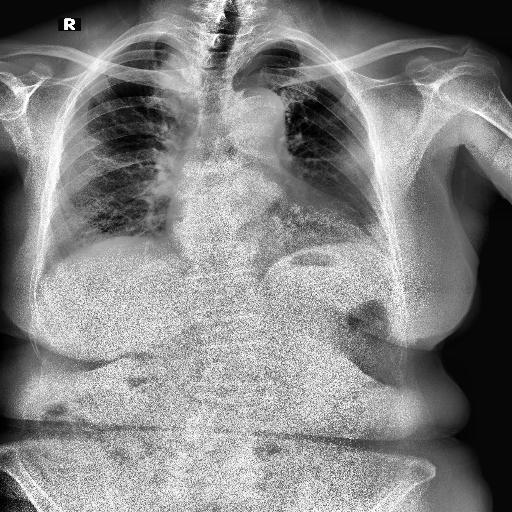0- Aortic enlargement: (223, 86, 285, 142), (215, 84, 283, 134), (230, 86, 286, 139)
11- Pleural thickening: (246, 38, 298, 62)
13- Pulmonary fibrosis: (131, 220, 162, 242)
3- Cardiomegaly: (162, 189, 365, 254), (164, 206, 374, 252), (165, 212, 368, 256)
7- Lung Opacity: (158, 41, 198, 98)
